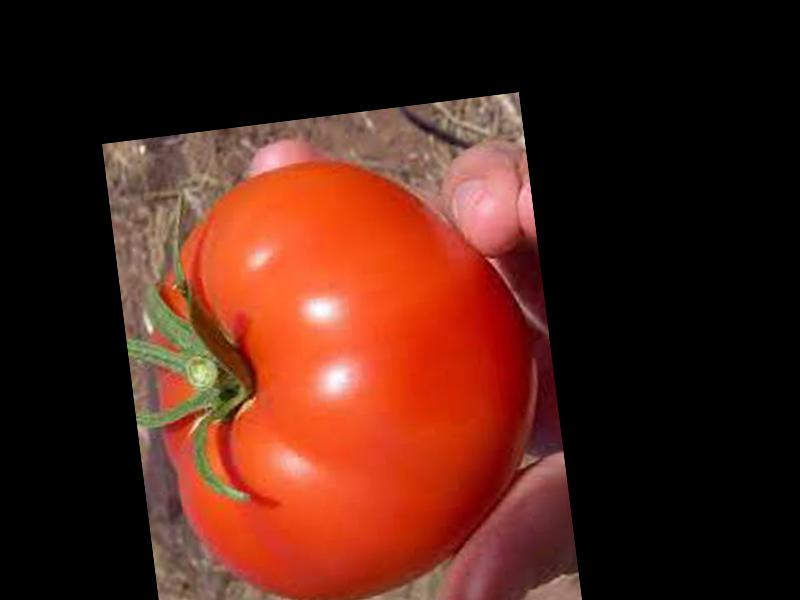Tomato: (133, 139, 556, 600)
